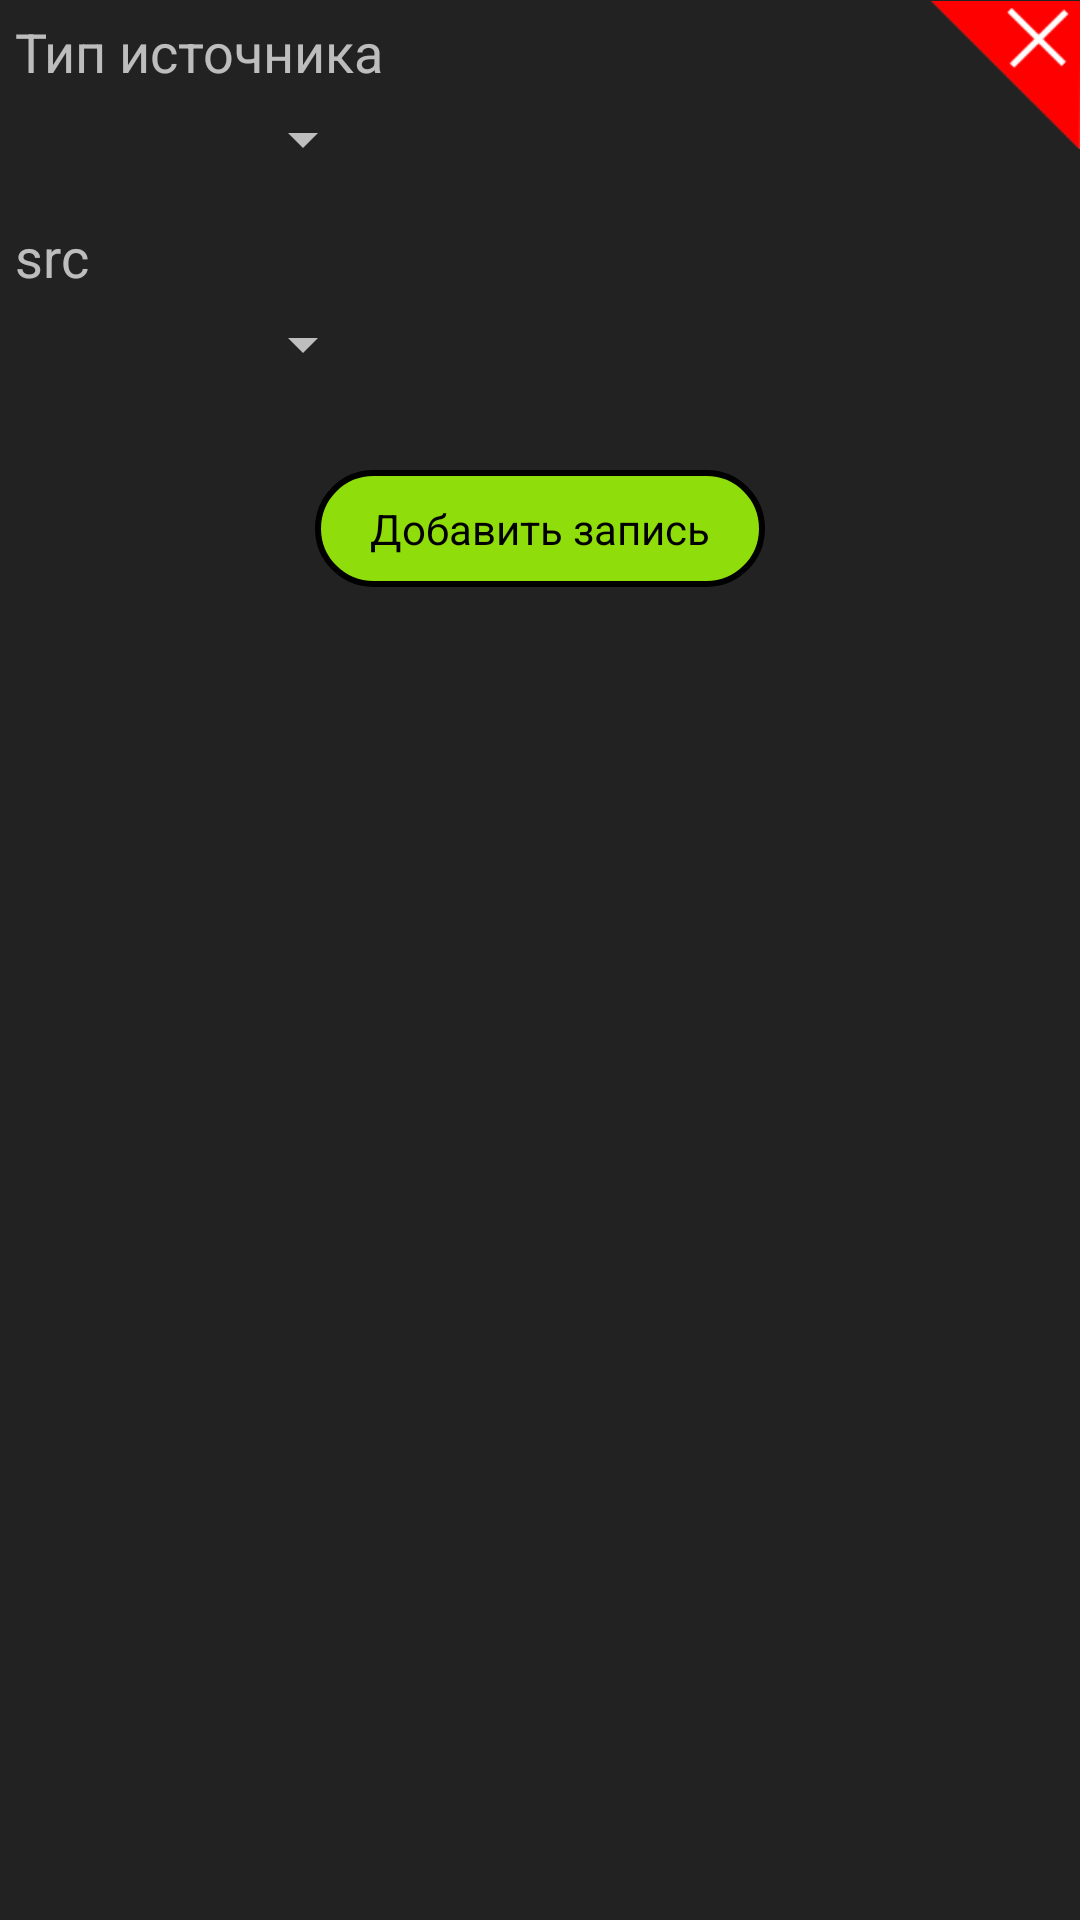

Named icons in this screenshot (1080 x 1920) and their centers, point (x, y):
close purchase: point (1005, 75)
